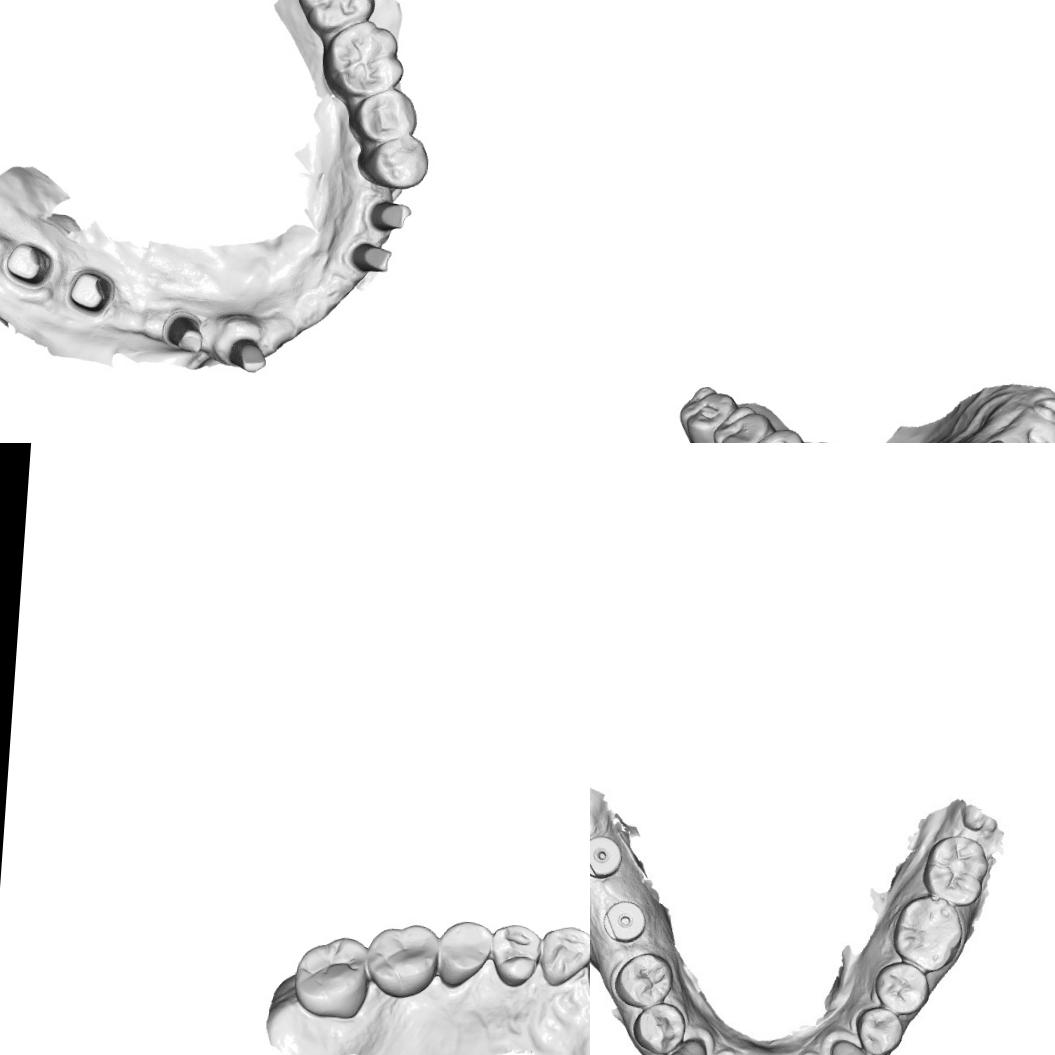abutment: (63, 266, 114, 317), (0, 239, 53, 287), (342, 237, 396, 279), (160, 310, 208, 357), (225, 332, 271, 376), (364, 195, 414, 235)
canine: (536, 922, 590, 990), (827, 1036, 878, 1055), (660, 1041, 708, 1055)
implant: (598, 896, 651, 948), (590, 831, 624, 880)
molar: (319, 14, 407, 102), (288, 931, 373, 1021), (362, 919, 440, 1002), (889, 892, 965, 973), (920, 832, 992, 910), (674, 382, 737, 443), (293, 0, 380, 36), (708, 398, 776, 443)
premolar: (354, 132, 432, 196), (430, 915, 493, 994), (346, 85, 420, 147), (486, 919, 542, 991), (613, 946, 672, 1010), (870, 958, 930, 1016), (630, 1003, 688, 1053), (854, 1005, 906, 1055), (741, 422, 804, 443)
